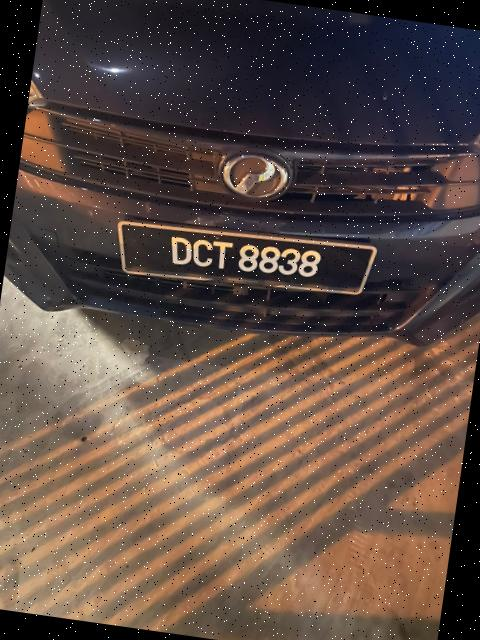License_Plate: (129, 220, 366, 300)
car: (1, 1, 480, 372)
